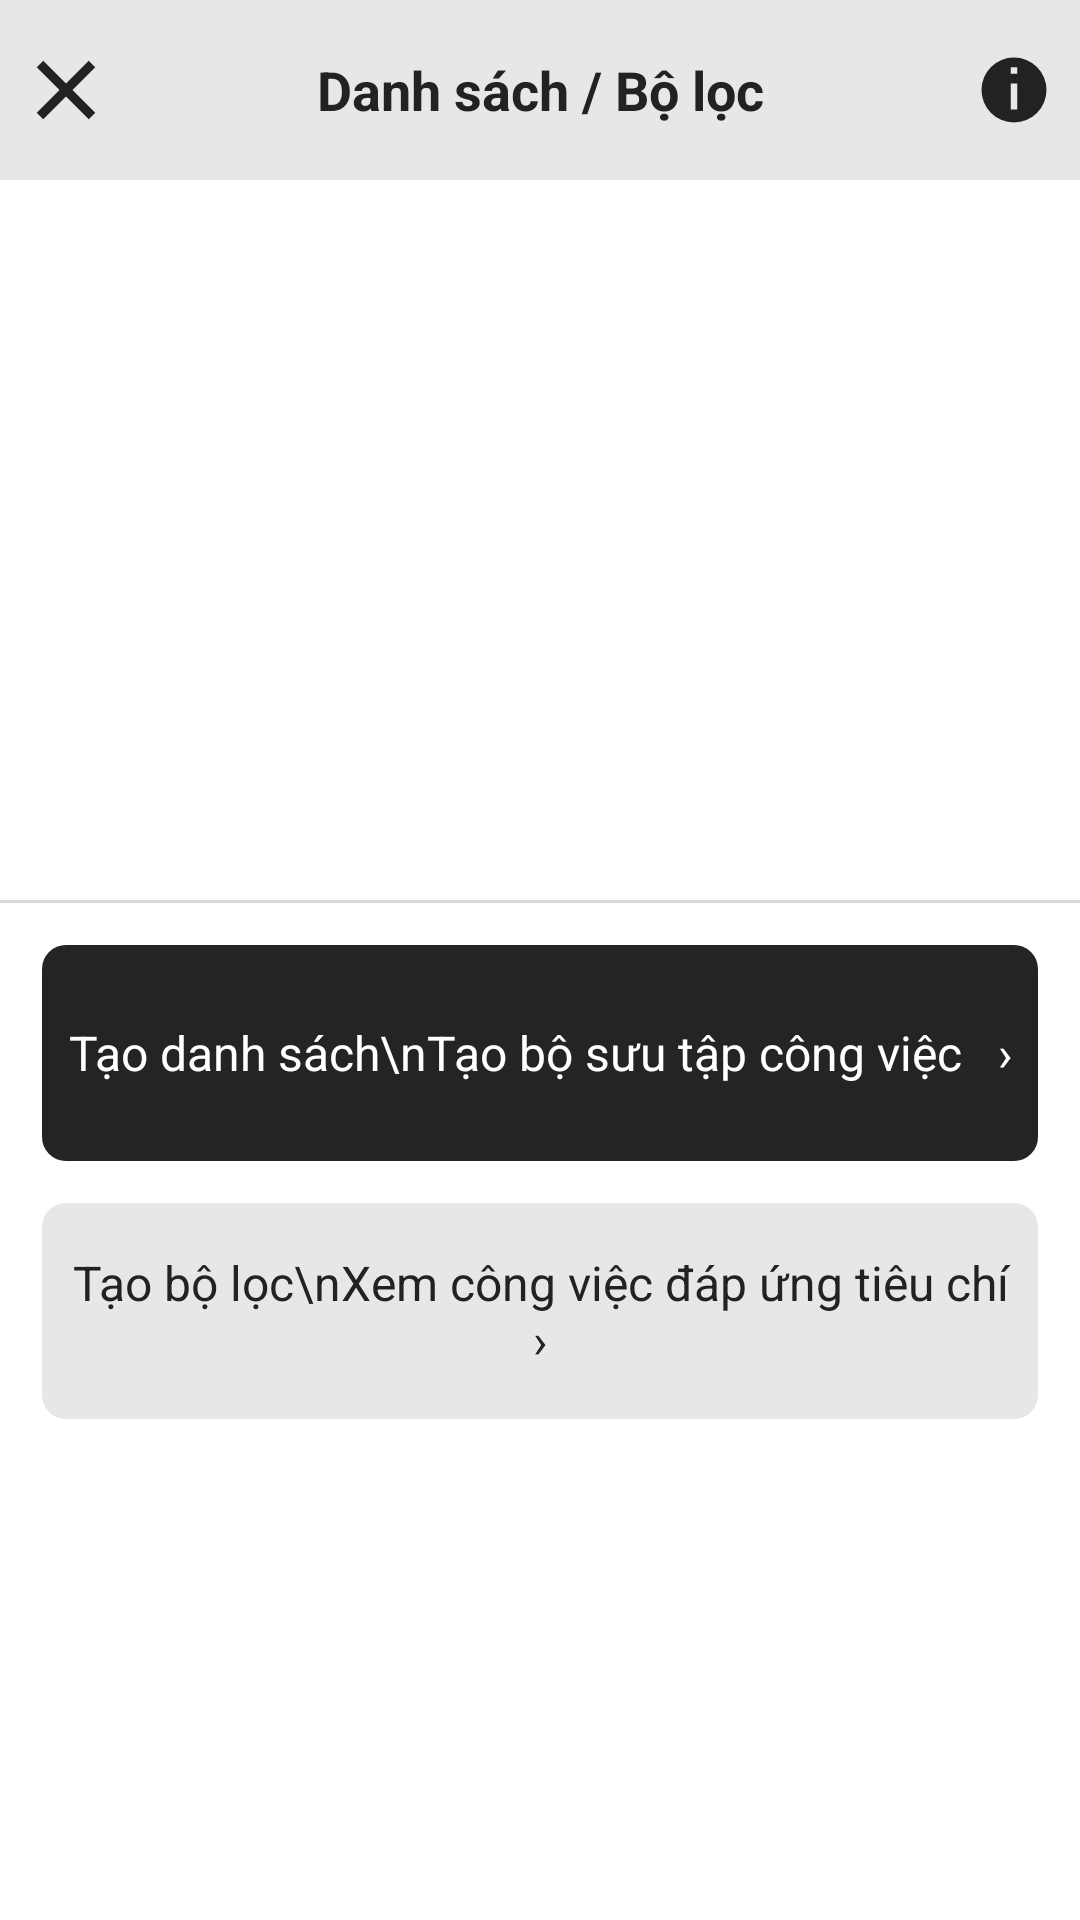

Icons on this 1080px x 1920px Android screen, each with its box as (x1, y1, x2, y2):
Hướng dẫn danh sách: (981, 57, 1047, 123)
Đóng: (37, 61, 95, 119)
